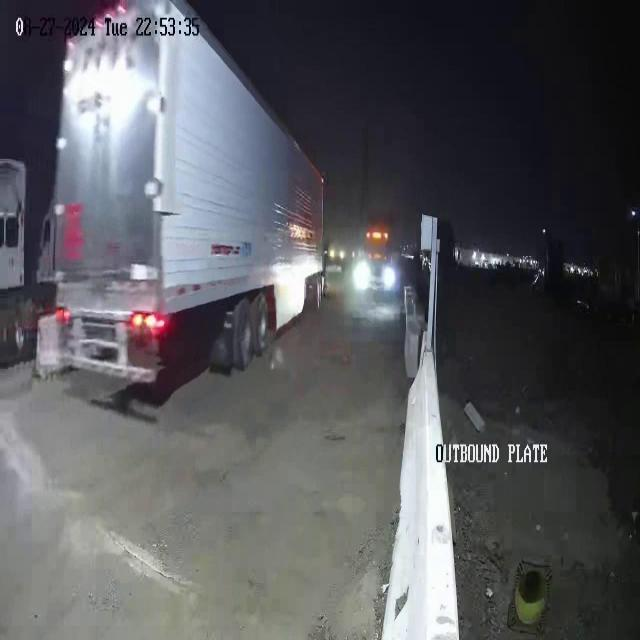TRUCK_CONTAINER: (32, 1, 328, 397)
